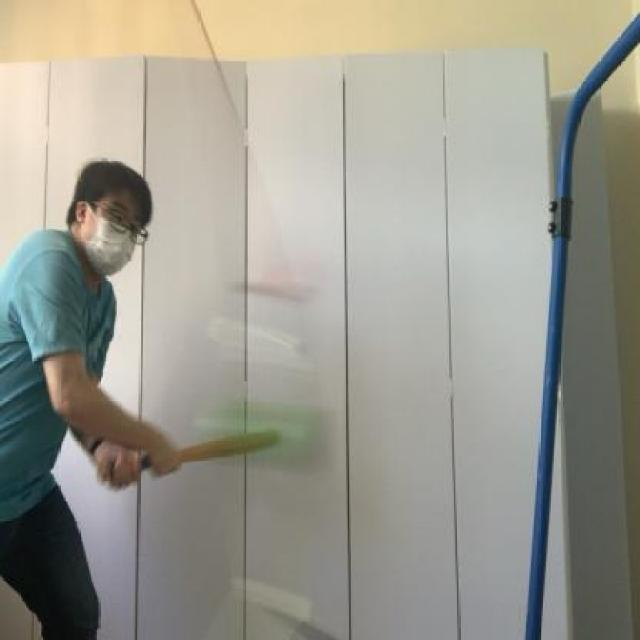baseball: (188, 405, 339, 490)
